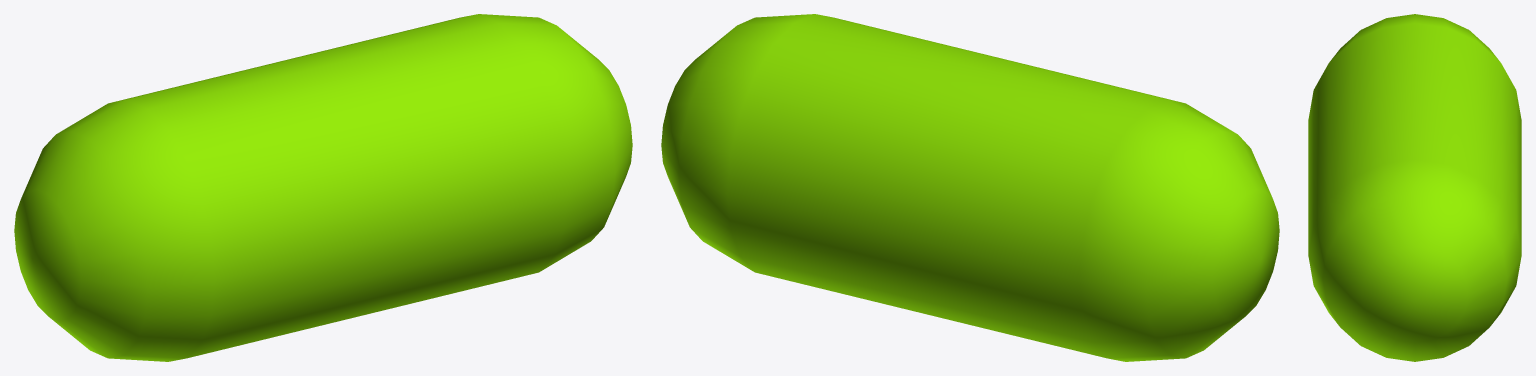
The model's file is EnemyProjectile.fbx.
3 renders of one model, left to right at view 1: azimuth 30°, elevation 25°; view 2: azimuth 150°, elevation 25°; view 3: azimuth 270°, elevation 25°, orthographic. The views are drawn at different scales.
Visible parts, largest first — view 1: pCylinder6; view 2: pCylinder6; view 3: pCylinder6.
Part boxes in pixels (x1=…): pCylinder6: x1=14, y1=14, x2=632, y2=361; pCylinder6: x1=661, y1=14, x2=1279, y2=361; pCylinder6: x1=1308, y1=14, x2=1521, y2=361.
Bounding box in the file's own units: 1 × 0.4 × 0.4.
